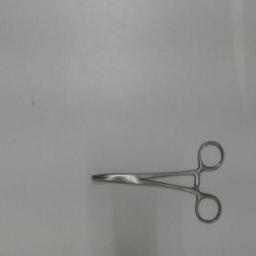Crile Artery Forceps: (87, 135, 229, 231)
